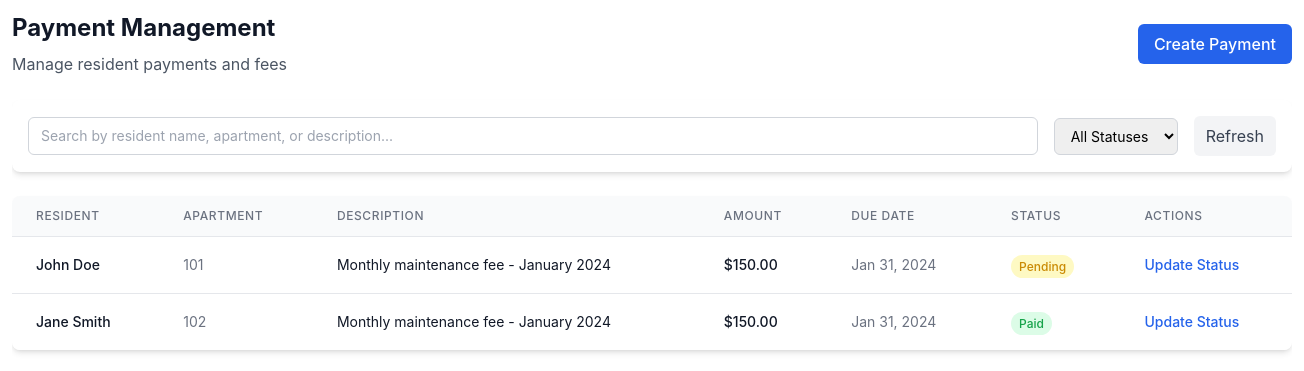
Test: AdminPaymentManagement › filters payments by status
expect the text "John Doe" is shown: met, box [12,236,159,294]
Filter by paid status
Select "Paid" in the dropdown showing "All Statuses" at (1116, 136), box [1054,118,1178,154]
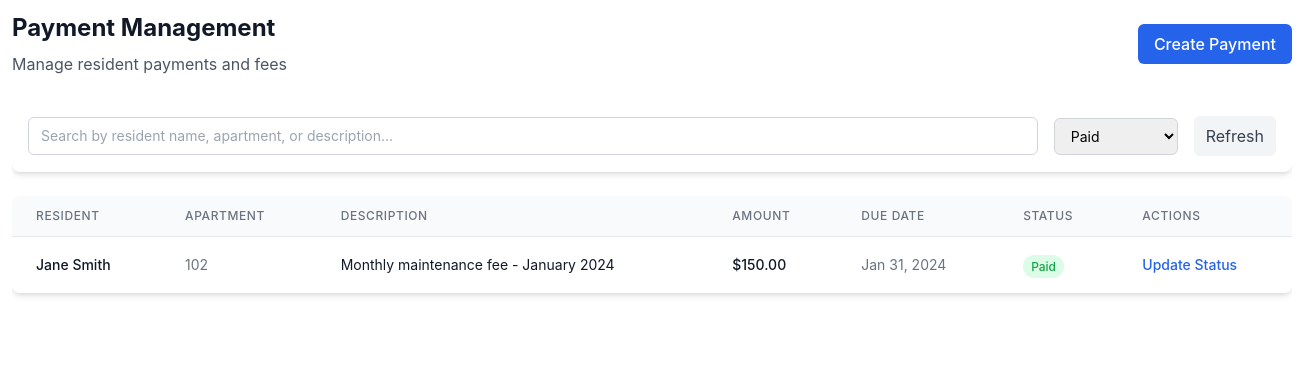
expect the text "Jane Smith" is shown: met, box [12,236,161,293]
expect the text "John Doe" is gone: met
